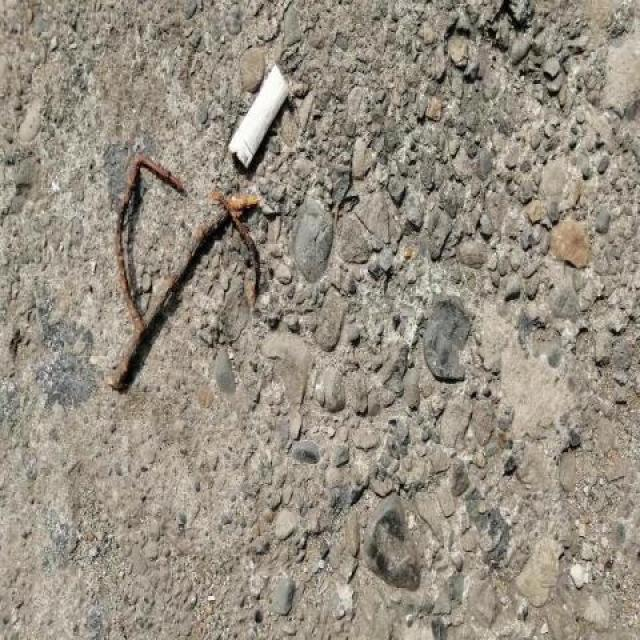non-organic waste: (222, 60, 294, 176)
